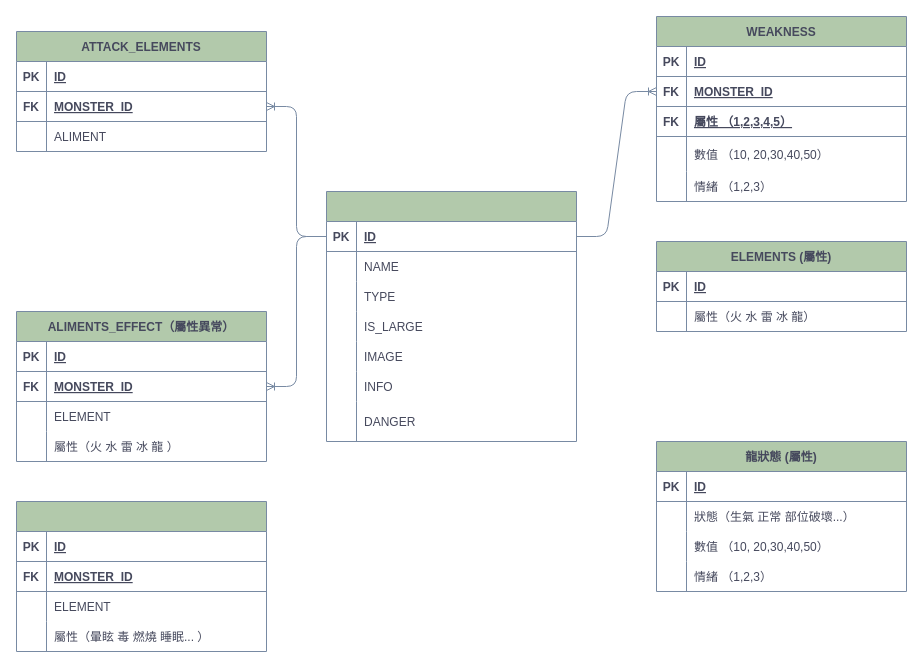
Image size: 923x668. Some labels were removed from this diagram. The box of each missing label's shape, as (x1, y1, x2, y2) in pixels:
ALIMENTS_STATUS_EFFECT（狀態異常）: (16, 500, 266, 652)
Ｍonsters: (326, 190, 576, 442)
